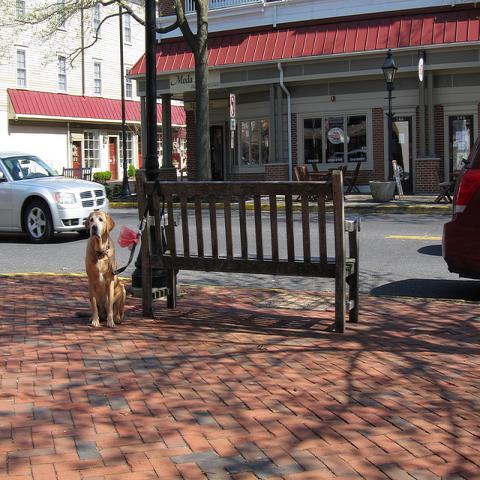car: (1, 151, 111, 241), (441, 138, 479, 283)
